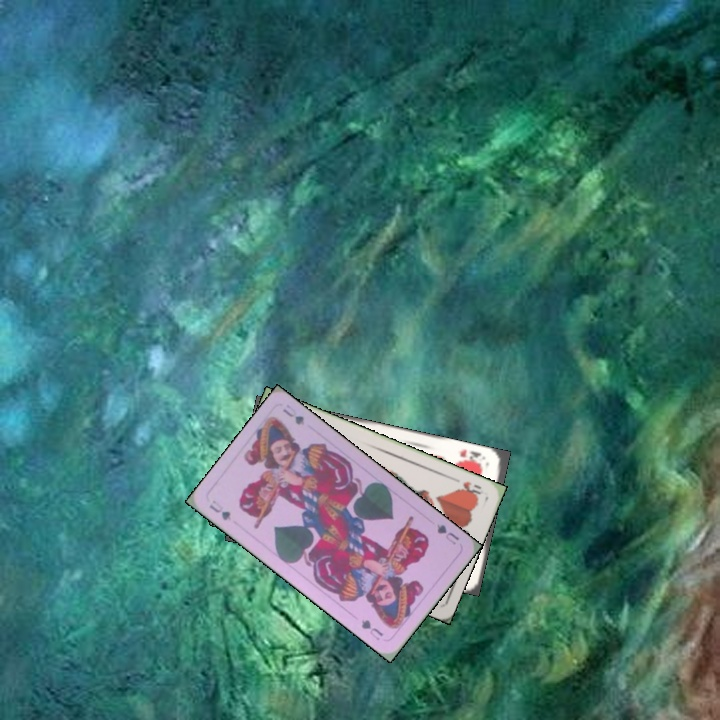GU: (433, 520, 462, 547), (205, 496, 233, 523)
HK: (455, 445, 488, 468)
HO: (448, 473, 486, 500)
